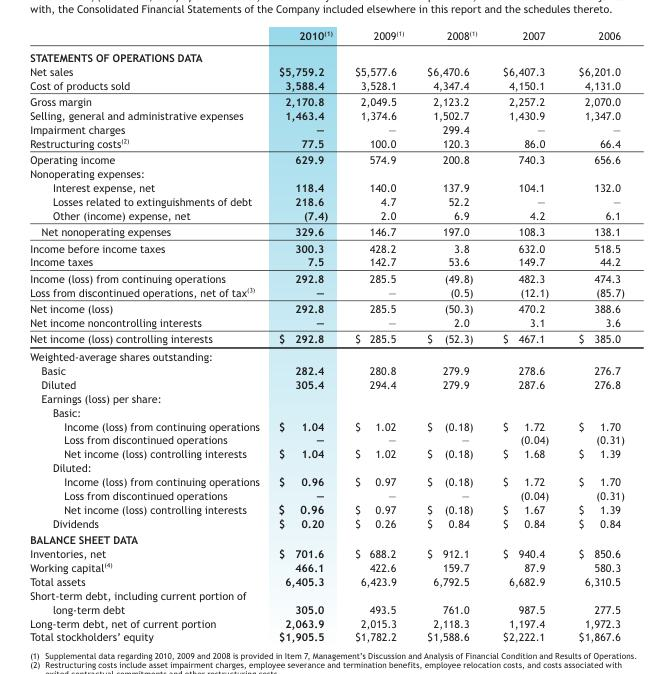table: (29, 29, 623, 642)
table column: (29, 29, 268, 642), (268, 29, 343, 642), (414, 29, 489, 642), (489, 29, 562, 642), (343, 29, 414, 642), (562, 29, 623, 642)
table column header: (29, 29, 623, 46)
table projected row header: (29, 46, 623, 63), (29, 347, 623, 363), (29, 531, 623, 546), (29, 166, 623, 180), (29, 390, 623, 404), (29, 404, 623, 418), (29, 460, 623, 474)
table row: (29, 587, 623, 615), (29, 29, 623, 46), (29, 46, 623, 63), (29, 330, 623, 347), (29, 92, 623, 108), (29, 135, 623, 151), (29, 207, 623, 223), (29, 223, 623, 239), (29, 284, 623, 300), (29, 347, 623, 363), (29, 77, 623, 92), (29, 151, 623, 166), (29, 239, 623, 254), (29, 254, 623, 269), (29, 269, 623, 284), (29, 300, 623, 315), (29, 315, 623, 330), (29, 501, 623, 516), (29, 516, 623, 531), (29, 531, 623, 546), (29, 63, 623, 77), (29, 108, 623, 122), (29, 166, 623, 180), (29, 180, 623, 194), (29, 363, 623, 377), (29, 390, 623, 404), (29, 404, 623, 418), (29, 418, 623, 432), (29, 432, 623, 446), (29, 446, 623, 460), (29, 460, 623, 474), (29, 474, 623, 488), (29, 546, 623, 560), (29, 560, 623, 574), (29, 615, 623, 629), (29, 122, 623, 135), (29, 194, 623, 207), (29, 377, 623, 390), (29, 488, 623, 501), (29, 574, 623, 587), (29, 629, 623, 642)
